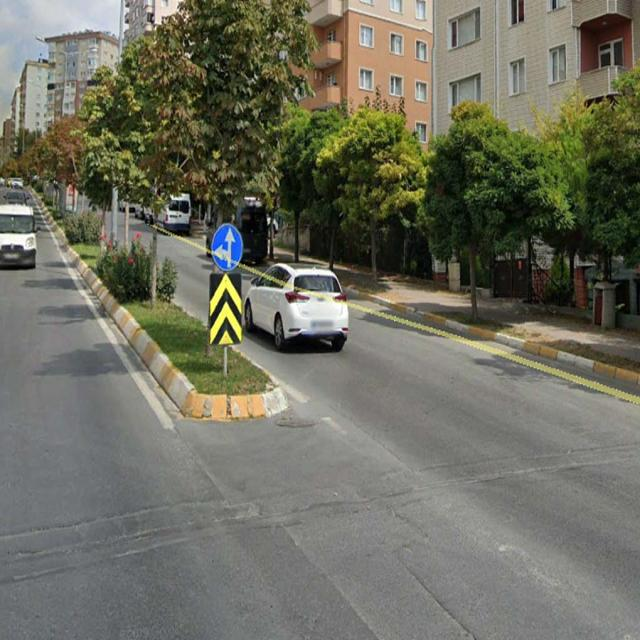ilerisag: (212, 224, 244, 270)
